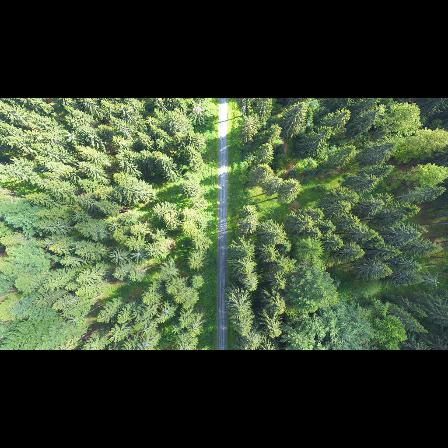Sick: (130, 246, 147, 262)
